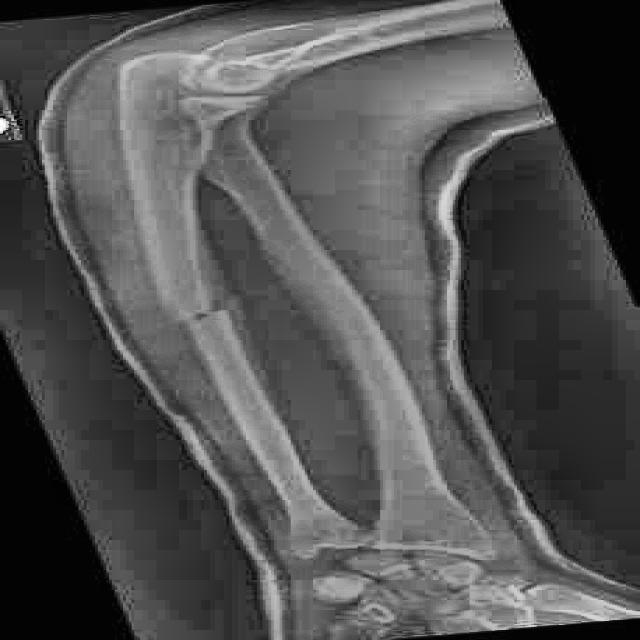forearm fracture: (113, 273, 314, 373)
